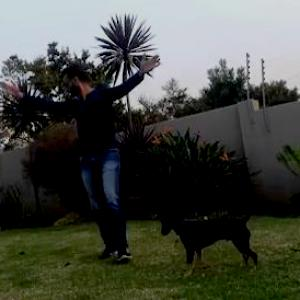takeoff: (3, 44, 166, 248)
